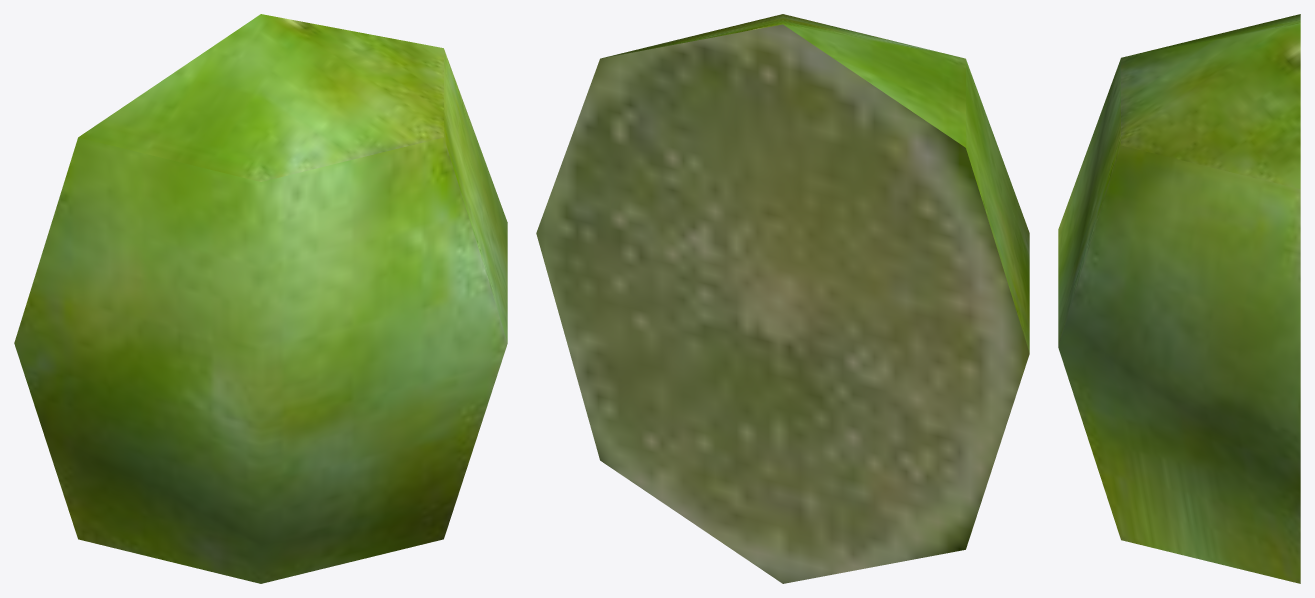
File: lemon_01.glb
3 renders of one model, left to right at view 1: azimuth 30°, elevation 25°; view 2: azimuth 150°, elevation 25°; view 3: azimuth 270°, elevation 25°, orthographic.
Parts seen in each view (by area): view 1: lemon_01; view 2: lemon_01; view 3: lemon_01.
Boxes of the visible parts, left/top/right/bottom form: lemon_01: left=14, top=14, right=507, bottom=583; lemon_01: left=536, top=14, right=1029, bottom=583; lemon_01: left=1058, top=14, right=1300, bottom=583.
Size of the model in its own units: 0.1035 by 0.1122 by 0.0448.
1 material, 1 textured.
